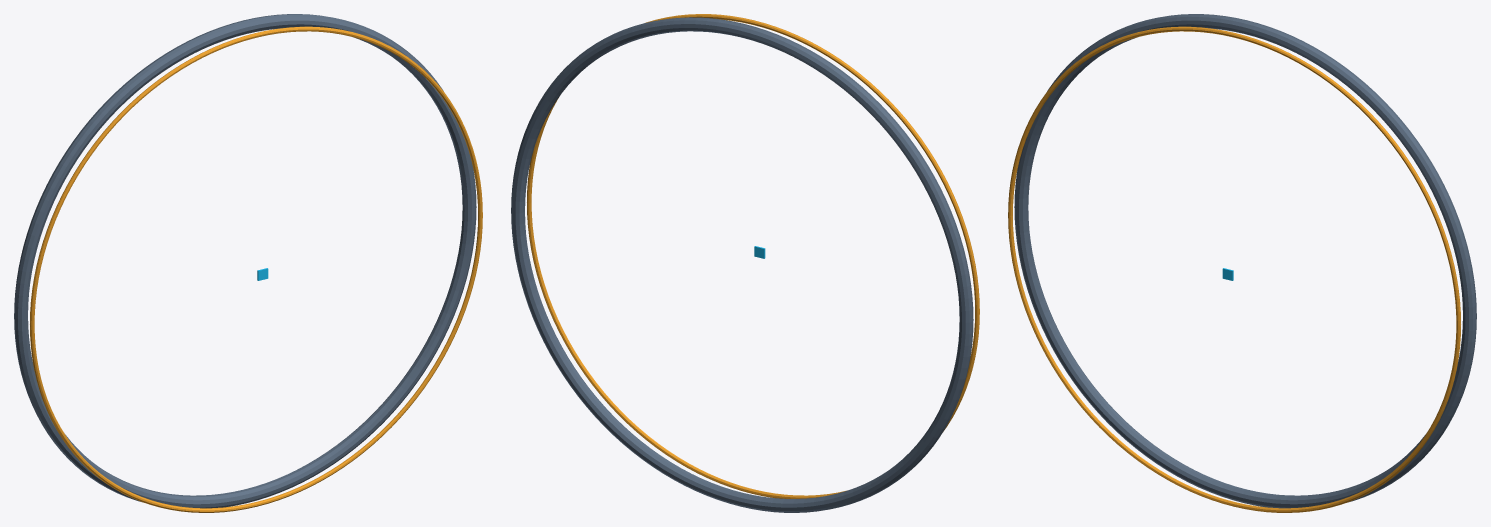
File: 12_L87_GravityRingStructuralGuideTrack.fbx
3 renders of one model, left to right at view 1: azimuth 30°, elevation 25°; view 2: azimuth 150°, elevation 25°; view 3: azimuth 330°, elevation 25°, orthographic.
Visible parts, largest first — view 1: L87_GravityRingStructuralGuideTrack; view 2: L87_GravityRingStructuralGuideTrack; view 3: L87_GravityRingStructuralGuideTrack.
Boxes of the visible parts, box(x1,y1,x2,y2) form: L87_GravityRingStructuralGuideTrack: box(14, 14, 482, 512); L87_GravityRingStructuralGuideTrack: box(511, 14, 979, 512); L87_GravityRingStructuralGuideTrack: box(1008, 14, 1476, 512).
Bounding box in the file's own units: 1202 × 1202 × 96.84.
